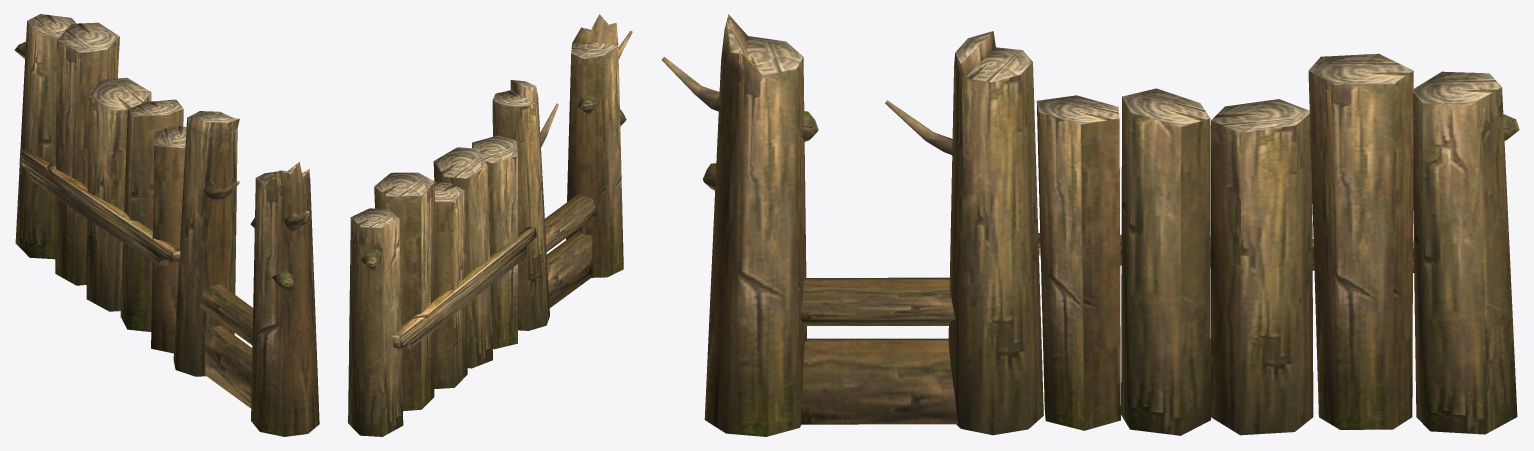
File: Hangzhou_wj_008.FBX
3 views of the same model, side by side, from view 1: azimuth 30°, elevation 25°; view 2: azimuth 150°, elevation 25°; view 3: azimuth 270°, elevation 25° (orthographic). The views are drawn at different scales.
Visible parts, largest first — view 1: DrawCall_0661; view 2: DrawCall_0661; view 3: DrawCall_0661.
Boxes of the visible parts, box(x1,y1,x2,y2) form: DrawCall_0661: box(14, 14, 319, 436); DrawCall_0661: box(348, 14, 632, 436); DrawCall_0661: box(661, 14, 1519, 436).
Size of the model in its own units: 23.15 by 94.75 by 185.
